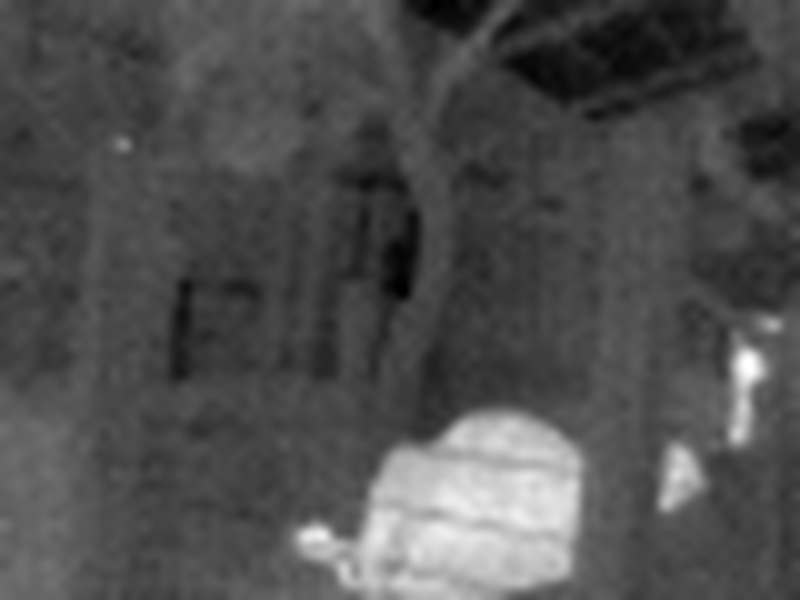elephant: (324, 398, 713, 600)
